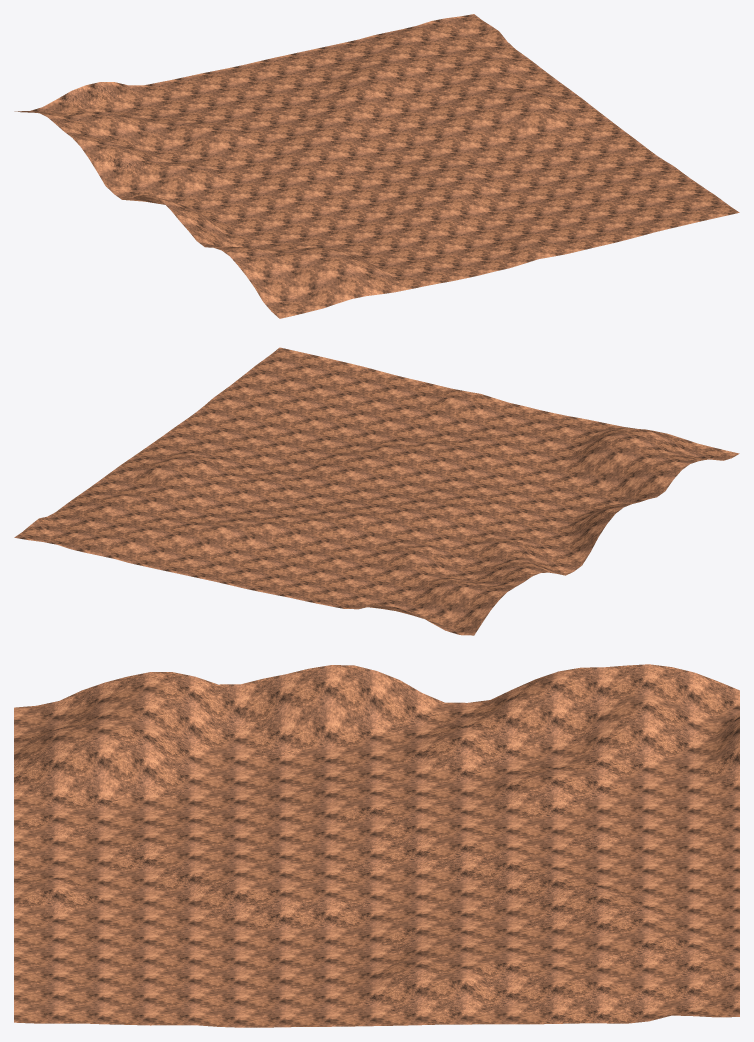
File: terrain_05_06.dae
3 renders of one model, top to bottom at view 1: azimuth 30°, elevation 25°; view 2: azimuth 150°, elevation 25°; view 3: azimuth 270°, elevation 25°, orthographic. The views are drawn at different scales.
Visible parts, largest first — view 1: terrain_05_06-node; view 2: terrain_05_06-node; view 3: terrain_05_06-node.
Boxes of the visible parts, x1,y1,x2,y2 form: terrain_05_06-node: (14, 14, 739, 318); terrain_05_06-node: (14, 347, 739, 635); terrain_05_06-node: (14, 664, 739, 1027).
Bounding box in the file's own units: 128 × 128 × 11.02.
Materials: 1 (1 with a texture image).
